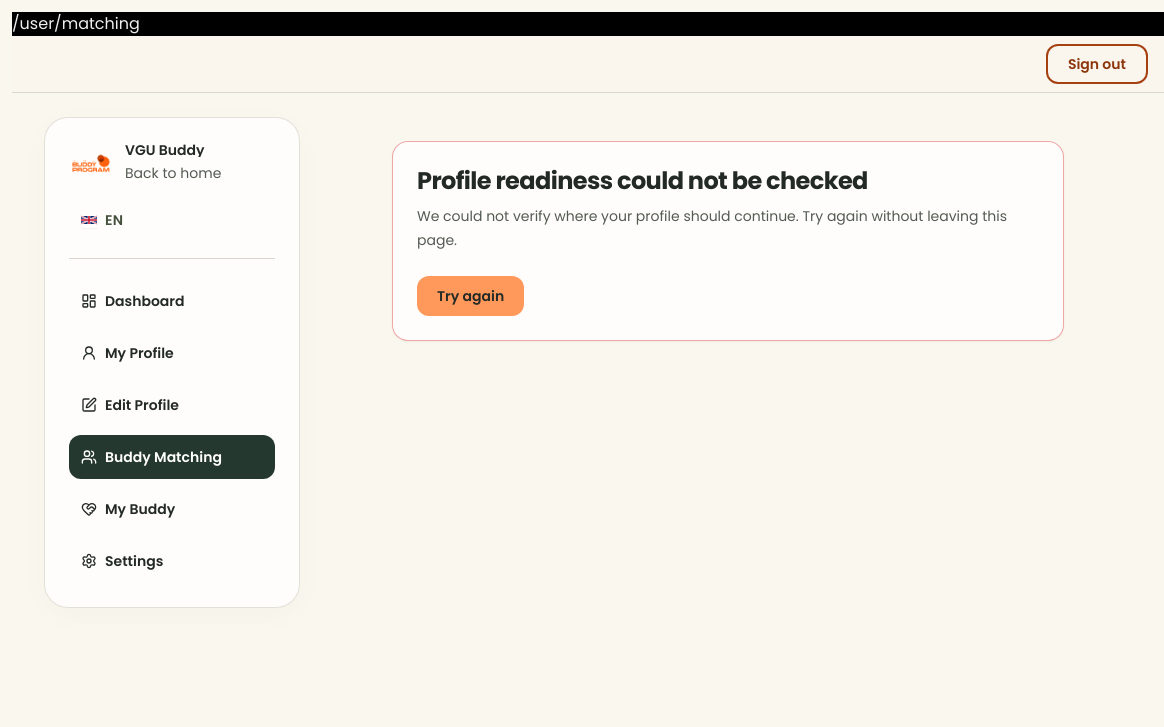
Test: FE-038 profile readiness routing › shows retryable failure in place without treating a network error as incomplete
Expected: the message shows "We could not verify where your profile should continue.", [417,206,1007,250]
Expected: the text with test id "location" reads "/user/matching", [12,12,140,35]
Click the button "Try again".
click(471, 296)  # box [417,276,524,316]
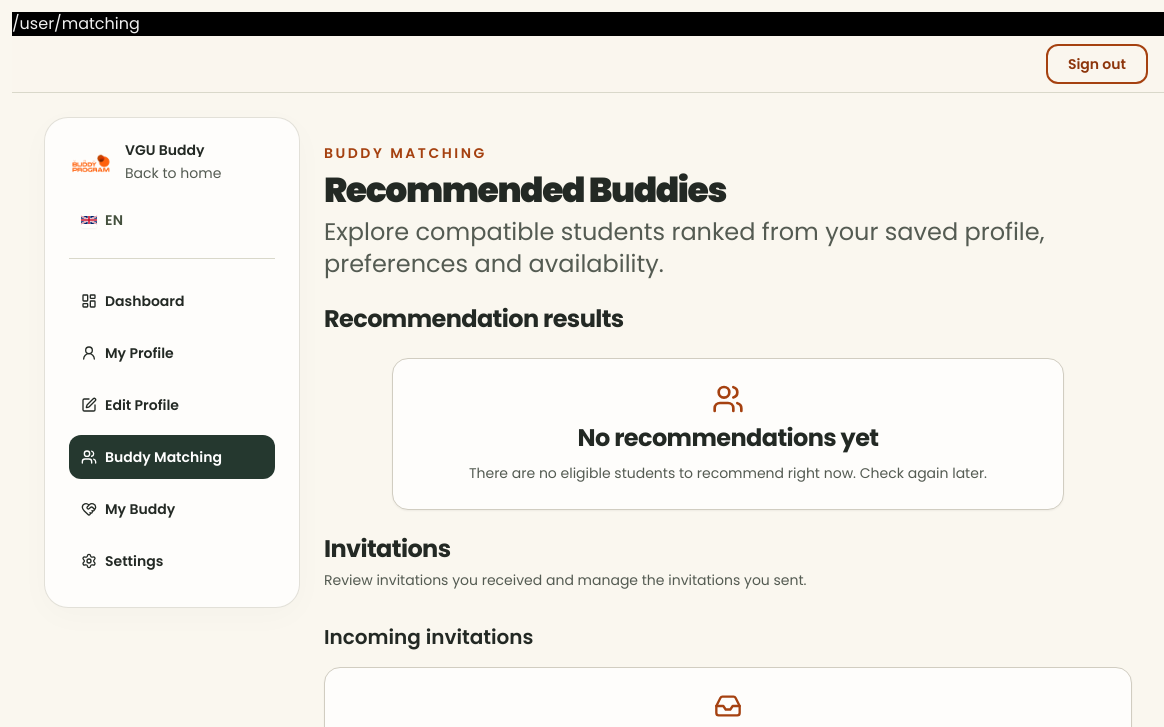
Expected: the heading "Recommended Buddies" is shown, [324,166,726,214]
